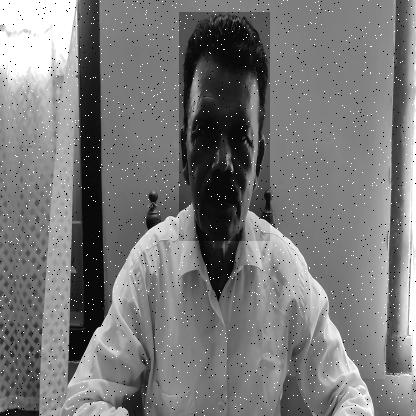Normal: (179, 12, 270, 241)
